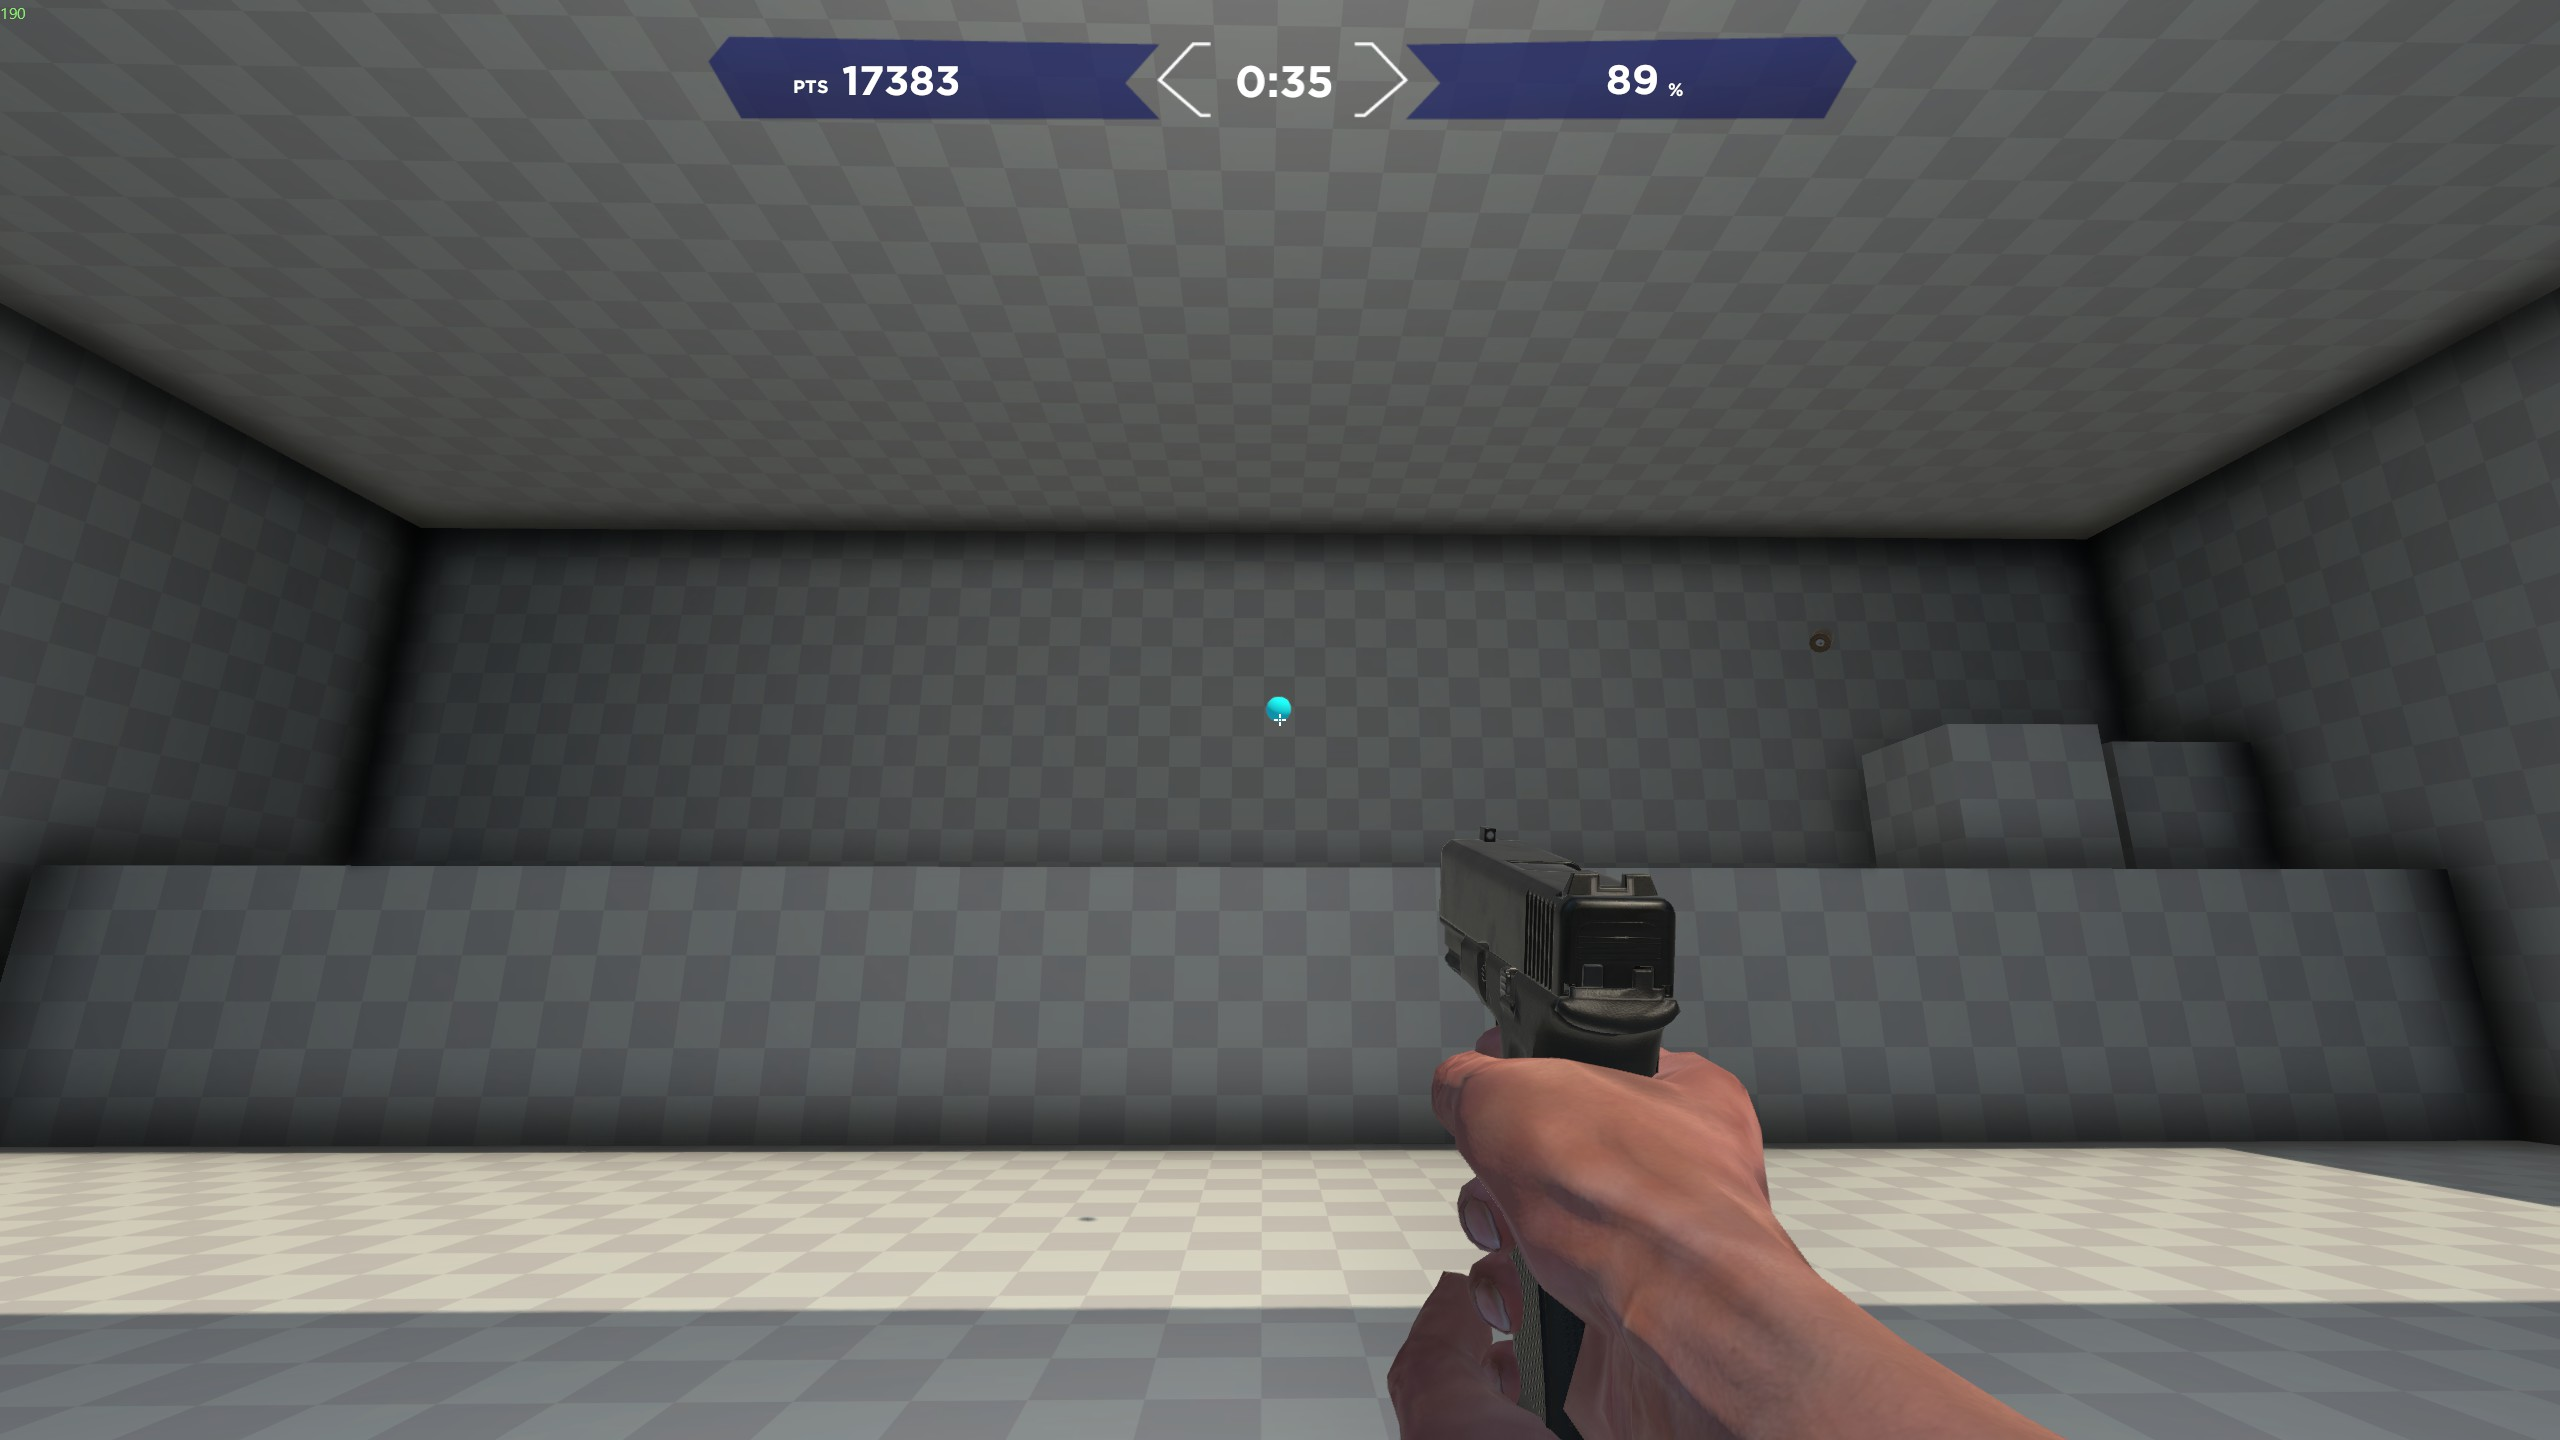Target: (1257, 696, 1303, 721)
